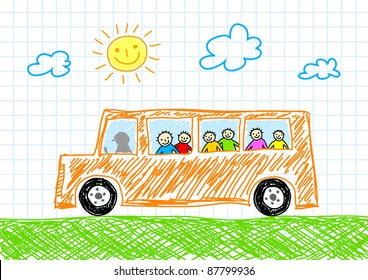car: (52, 105, 323, 219)
cloud: (199, 22, 263, 73), (25, 49, 72, 79), (295, 56, 346, 82)
sun: (90, 22, 162, 86)
